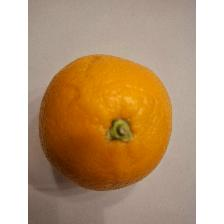Orange: (35, 51, 175, 195)
